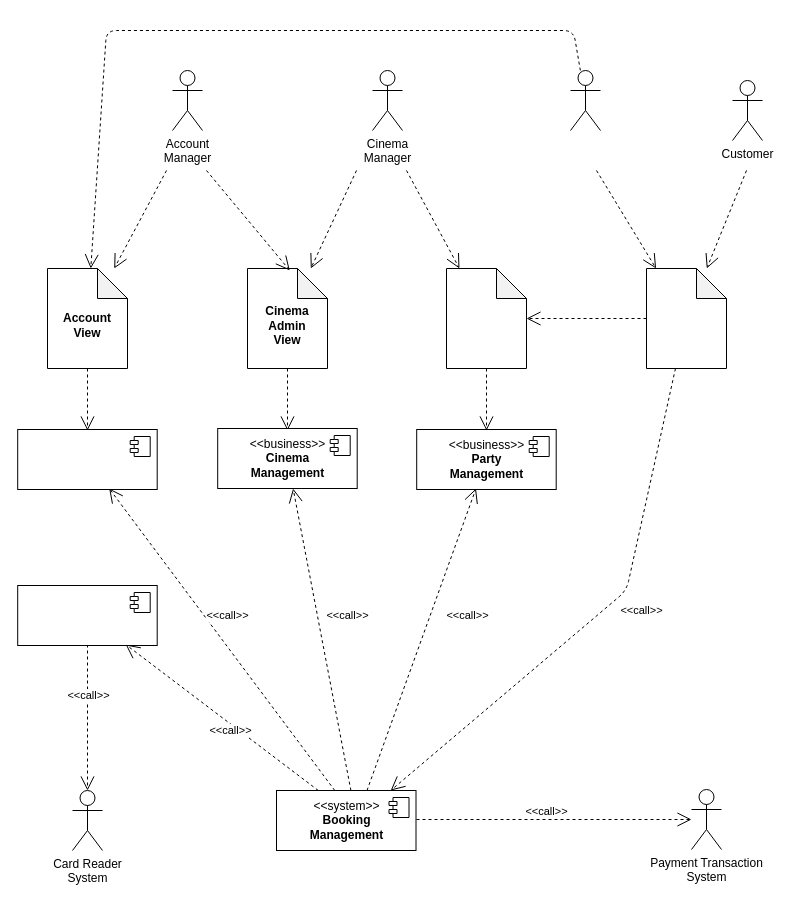
Image size: 791x904. Some labels were removed from this diagram. Each missing label, with the centre of its shape:
"<<business>> Account Management" goes at (87,459).
"<<system>> Virtual Ticketing" goes at (87,615).
"Booking View" goes at (686,318).
"Club Representative" goes at (585,100).
"Party View" goes at (486,318).
